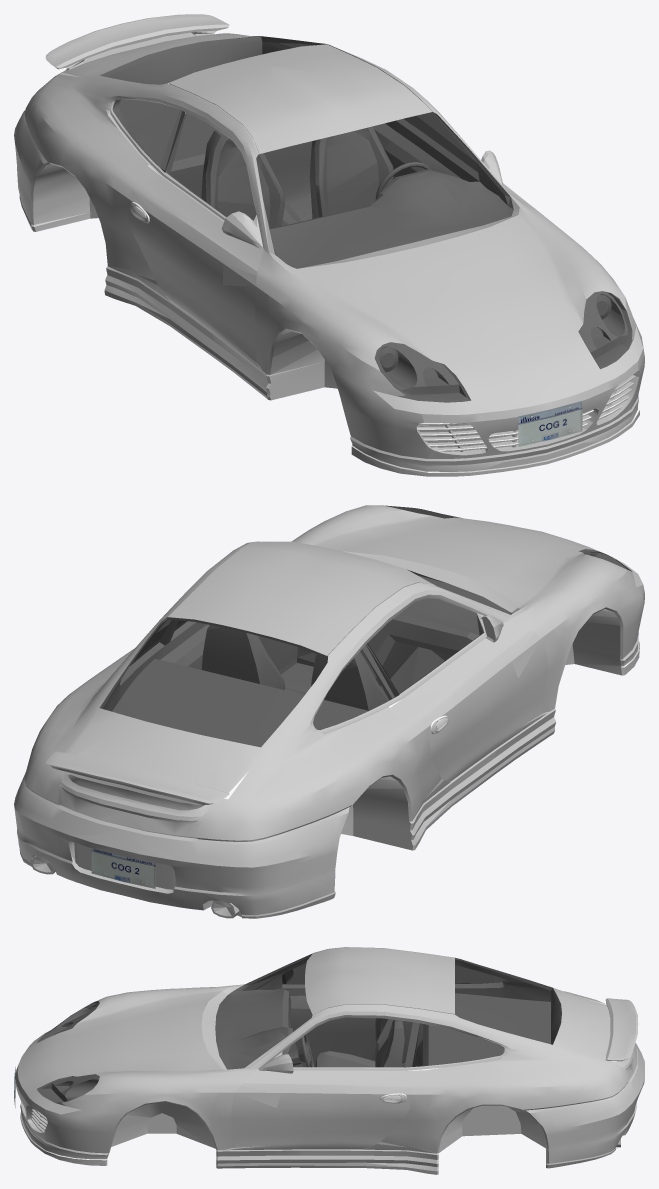
Rendered from sport_car.dae.
3 views of the same model, one above another, from view 1: azimuth 30°, elevation 25°; view 2: azimuth 150°, elevation 25°; view 3: azimuth 270°, elevation 25° (orthographic). The views are drawn at different scales.
Visible parts, largest first — view 1: car_sports; view 2: car_sports; view 3: car_sports.
Boxes of the visible parts, <box> form: car_sports: <box>14,14,644,476</box>; car_sports: <box>14,505,644,918</box>; car_sports: <box>14,947,644,1174</box>.
Size of the model in its own units: 85.98 by 208 by 54.18.
